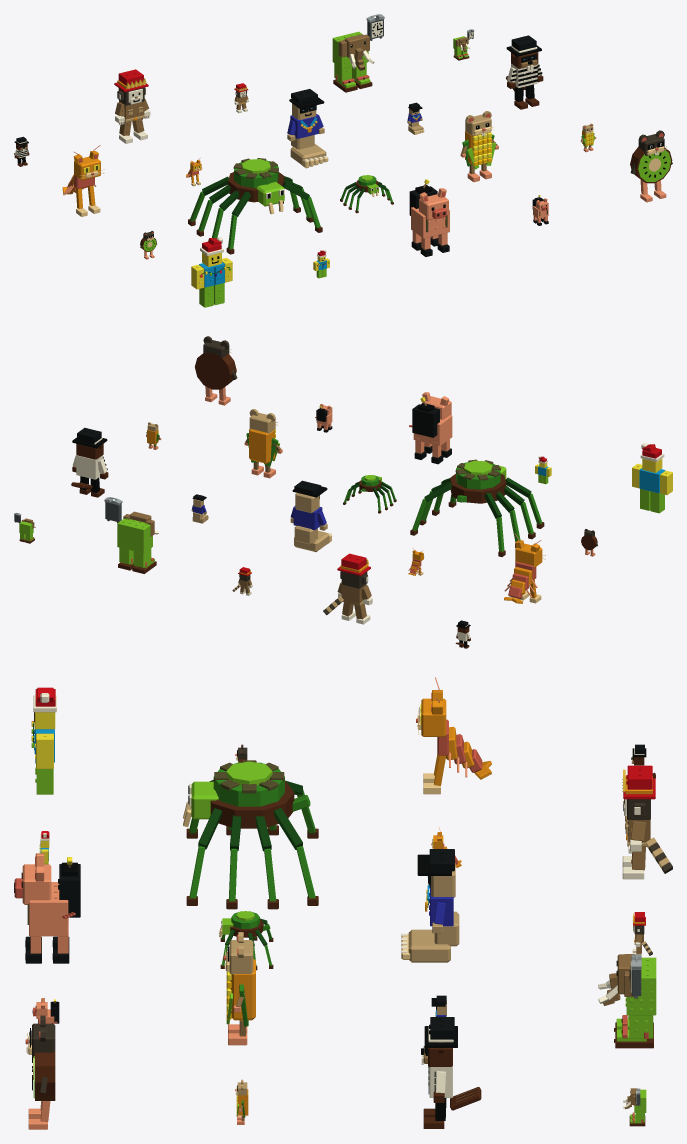
File: ReviewCharacters.glb
The picture shows the model from 3 angles, top to bottom: view 1: azimuth 30°, elevation 25°; view 2: azimuth 150°, elevation 25°; view 3: azimuth 270°, elevation 25°; orthographic projection. The views are drawn at different scales.
Parts seen in each view (by area): view 1: Tartaragno, SvininaBombardino, LiriliLarila, GangsterFootera, NoobiniSantanini, RaccooniJandelini, BanditoBobritto, PipiKiwi, PipiCorni, TrippiTroppi, Tartaragno_Mini; view 2: Tartaragno, LiriliLarila, SvininaBombardino, GangsterFootera, RaccooniJandelini, NoobiniSantanini, PipiKiwi, BanditoBobritto, PipiCorni, TrippiTroppi, Tartaragno_Mini; view 3: Tartaragno, SvininaBombardino, GangsterFootera, LiriliLarila, RaccooniJandelini, BanditoBobritto, TrippiTroppi, PipiCorni, PipiKiwi, NoobiniSantanini, Tartaragno_Mini, LiriliLarila_Mini.
Boxes of the visible parts, <box> form: Tartaragno: <box>188,158,322,254</box>; SvininaBombardino: <box>409,179,449,256</box>; LiriliLarila: <box>332,14,384,92</box>; GangsterFootera: <box>287,89,328,168</box>; NoobiniSantanini: <box>191,237,232,307</box>; RaccooniJandelini: <box>114,69,150,143</box>; BanditoBobritto: <box>506,35,543,109</box>; PipiKiwi: <box>630,130,672,202</box>; PipiCorni: <box>460,111,498,182</box>; TrippiTroppi: <box>62,145,104,216</box>; Tartaragno_Mini: <box>340,175,393,213</box>; Tartaragno: <box>410,459,544,556</box>; LiriliLarila: <box>104,497,158,573</box>; SvininaBombardino: <box>409,392,452,464</box>; GangsterFootera: <box>290,480,331,551</box>; RaccooniJandelini: <box>323,553,372,624</box>; NoobiniSantanini: <box>632,443,672,513</box>; PipiKiwi: <box>195,336,237,405</box>; BanditoBobritto: <box>71,427,108,497</box>; PipiCorni: <box>244,409,282,478</box>; TrippiTroppi: <box>504,533,545,603</box>; Tartaragno_Mini: <box>343,475,396,513</box>; Tartaragno: <box>183,760,318,909</box>; SvininaBombardino: <box>14,853,80,963</box>; GangsterFootera: <box>401,849,459,962</box>; LiriliLarila: <box>598,954,656,1048</box>; RaccooniJandelini: <box>622,765,672,879</box>; BanditoBobritto: <box>421,1017,481,1128</box>; TrippiTroppi: <box>416,677,491,794</box>; PipiCorni: <box>223,932,255,1045</box>; PipiKiwi: <box>25,1015,55,1129</box>; NoobiniSantanini: <box>31,687,56,794</box>; Tartaragno_Mini: <box>219,911,273,970</box>; LiriliLarila_Mini: <box>623,1088,646,1126</box>.
Size of the model in its own units: 39.15 by 5 by 29.93.
Materials: 1 (1 with a texture image).
